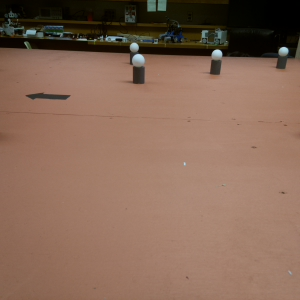obstacle: (131, 54, 145, 83), (210, 49, 222, 76), (276, 44, 287, 70), (129, 43, 140, 63)
start: (24, 91, 71, 103)
